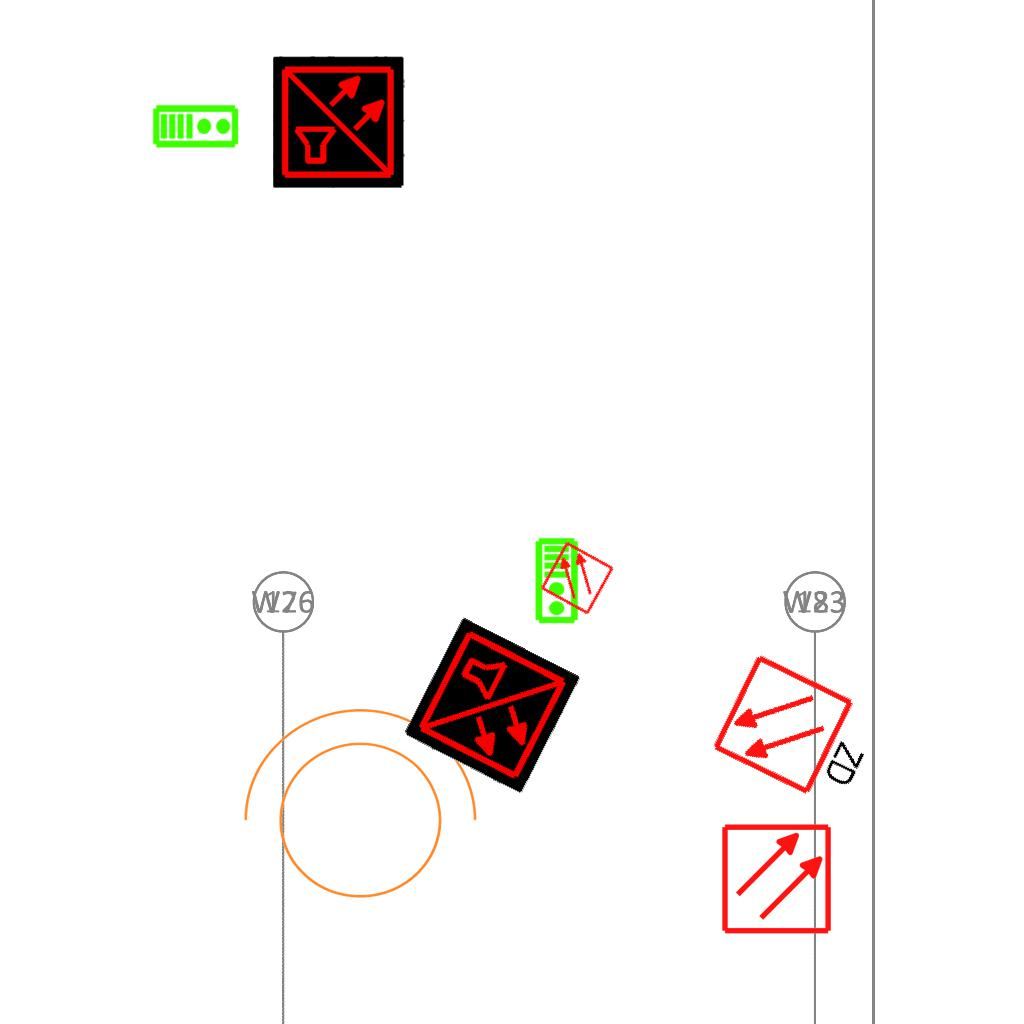Gegensprechanlage_mit_Video: (534, 537, 581, 625), (152, 102, 240, 149)
OKW_Multisensormelder_(Kombination_optischer_Rauch-Kahlenmonoxid_Waerme-Melder): (403, 617, 581, 795), (273, 56, 405, 188)
RMO_Rauchmelder_optischer: (720, 822, 833, 935), (538, 539, 616, 617)
Scheinwerfer_fuer_Alarmbeleuchtung: (222, 698, 486, 923)
ZD_Melder_in_Zwischendecke_mit_Revisionsoeffnung_mind_40_x_40_cm: (709, 647, 893, 816)
